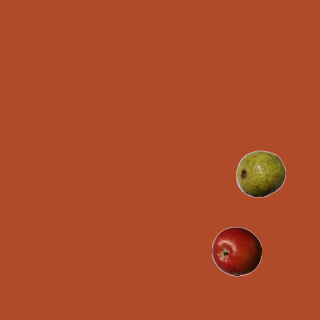Apple Braeburn: (211, 226, 261, 276)
Guava: (235, 148, 285, 198)
